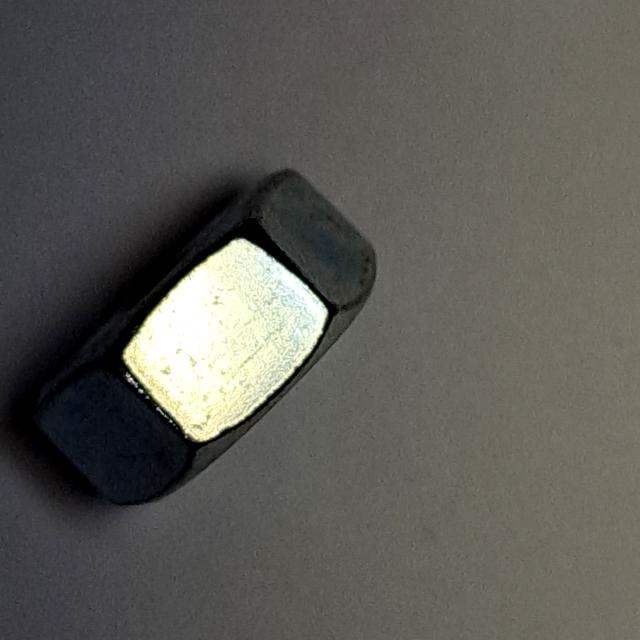Side_Excellent: (1, 149, 399, 523)
